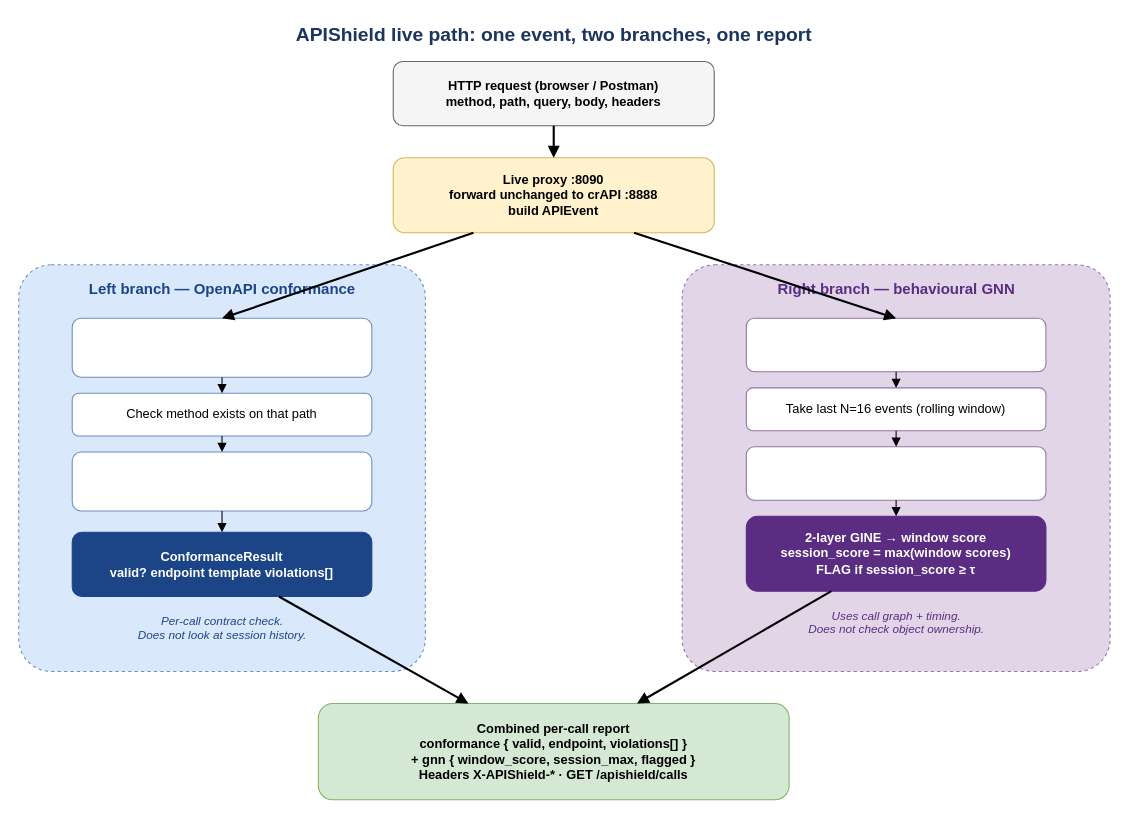
Image size: 1129x819. Some labels were removed from this diagram. Here are the shapes that lost their labels. From the top down, the box of each, then its label:
(71, 317, 372, 377): Match path to OpenAPI template e.g. /orders/8 → /orders/{order_id}
(745, 317, 1046, 372): Append event to session buffer (JWT email / IP)
(71, 451, 372, 511): Validate path / query / header params and JSON request body vs schema
(745, 446, 1046, 500): Collapse URLs to OpenAPI templates build directed transition graph + Δt
